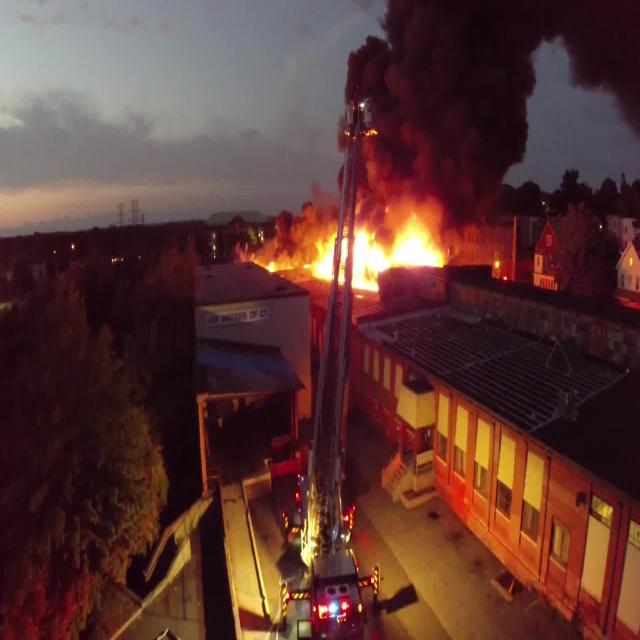Fire: (310, 214, 445, 295)
Smoke: (252, 0, 640, 271)
